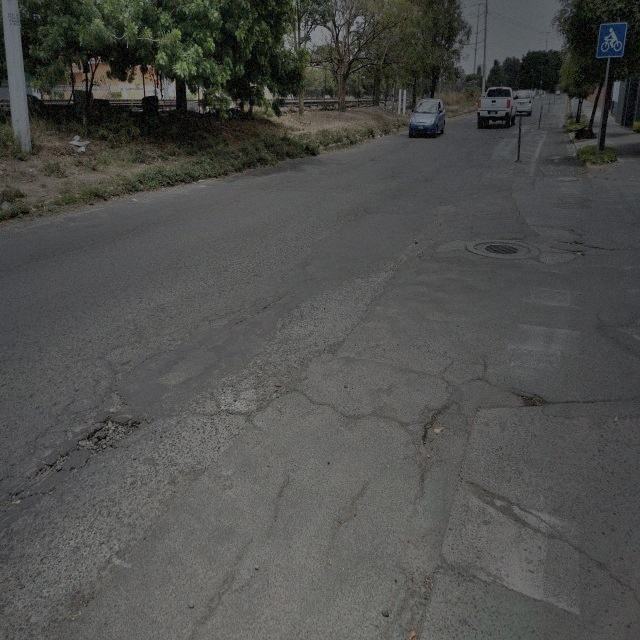pothole: (74, 413, 141, 461), (421, 403, 450, 461), (33, 450, 70, 482), (517, 392, 545, 409), (556, 236, 582, 249)
